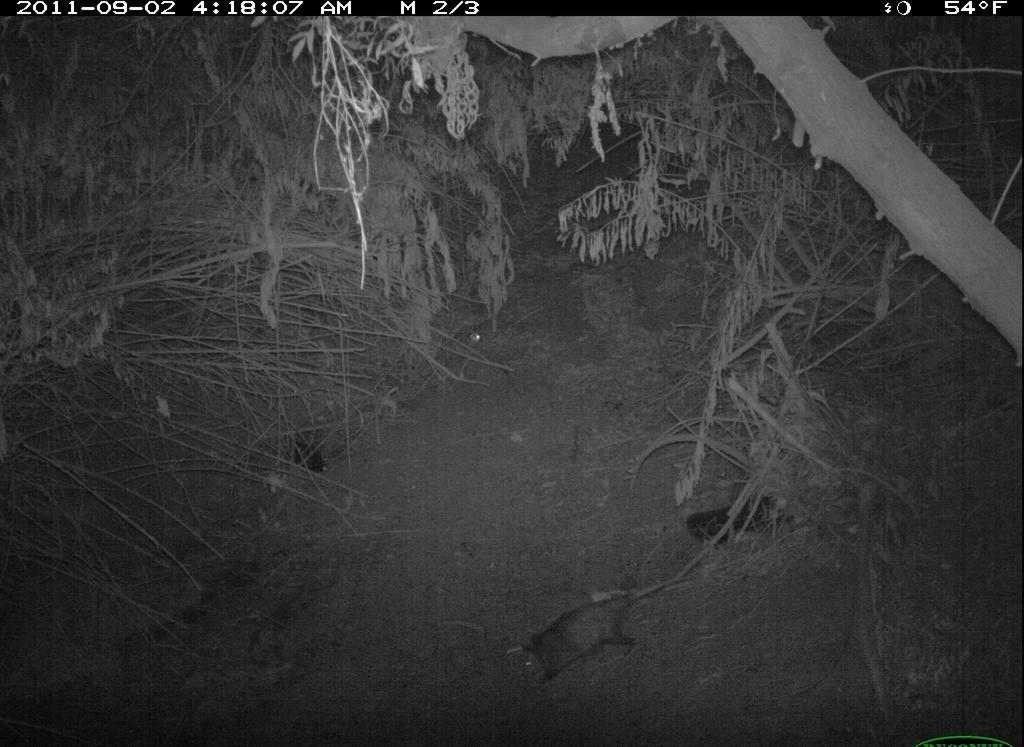opossum: (504, 573, 697, 701)
